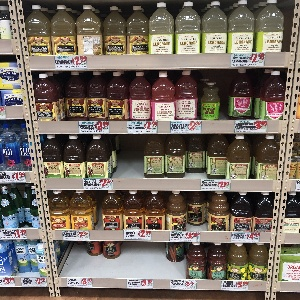void: (59, 241, 185, 276), (111, 135, 144, 178)
